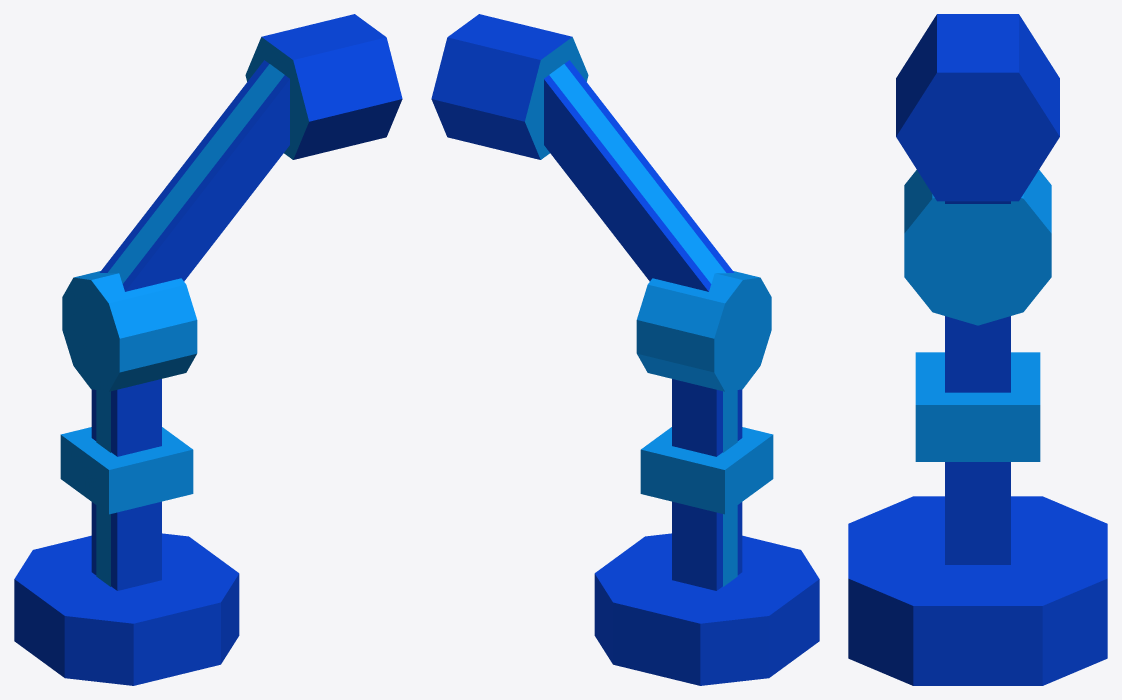
The model's file is Building_038_e.fbx.
The picture shows the model from 3 angles, left to right: view 1: azimuth 30°, elevation 25°; view 2: azimuth 150°, elevation 25°; view 3: azimuth 270°, elevation 25°; orthographic projection. The views are drawn at different scales.
Visible parts, largest first — view 1: Building_038_e; view 2: Building_038_e; view 3: Building_038_e.
Part boxes in pixels (x1=…): Building_038_e: x1=14, y1=14, x2=402, y2=685; Building_038_e: x1=431, y1=14, x2=819, y2=685; Building_038_e: x1=848, y1=14, x2=1107, y2=685.
Size of the model in its own units: 6 by 9.58 by 3.16.
